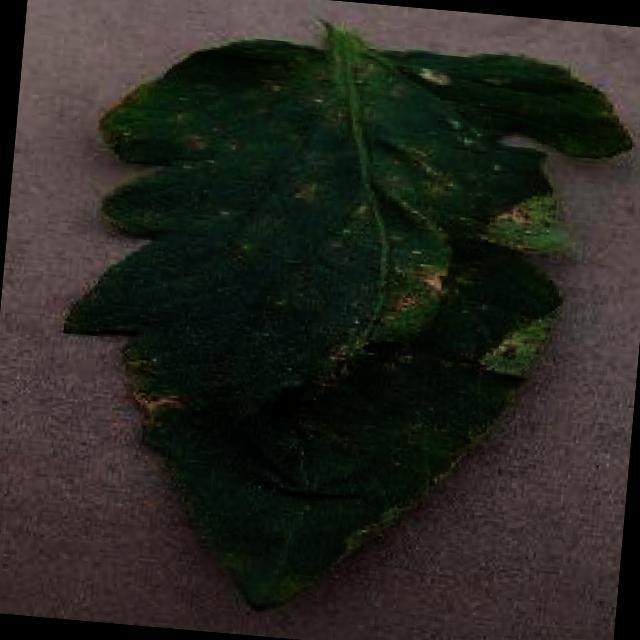Tomato bacterial spot leaf: (29, 8, 640, 640)
